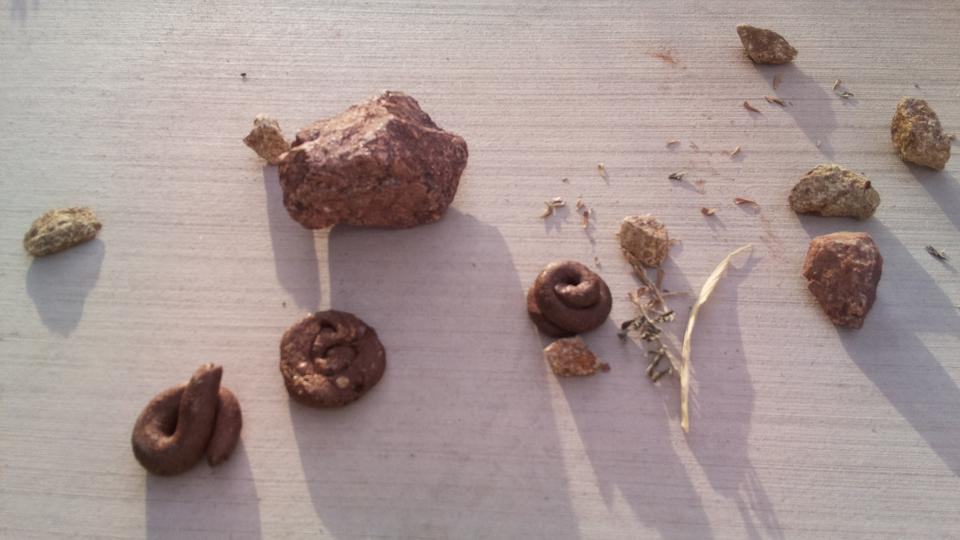poop: (127, 360, 248, 481), (275, 305, 391, 411), (522, 257, 616, 343)
